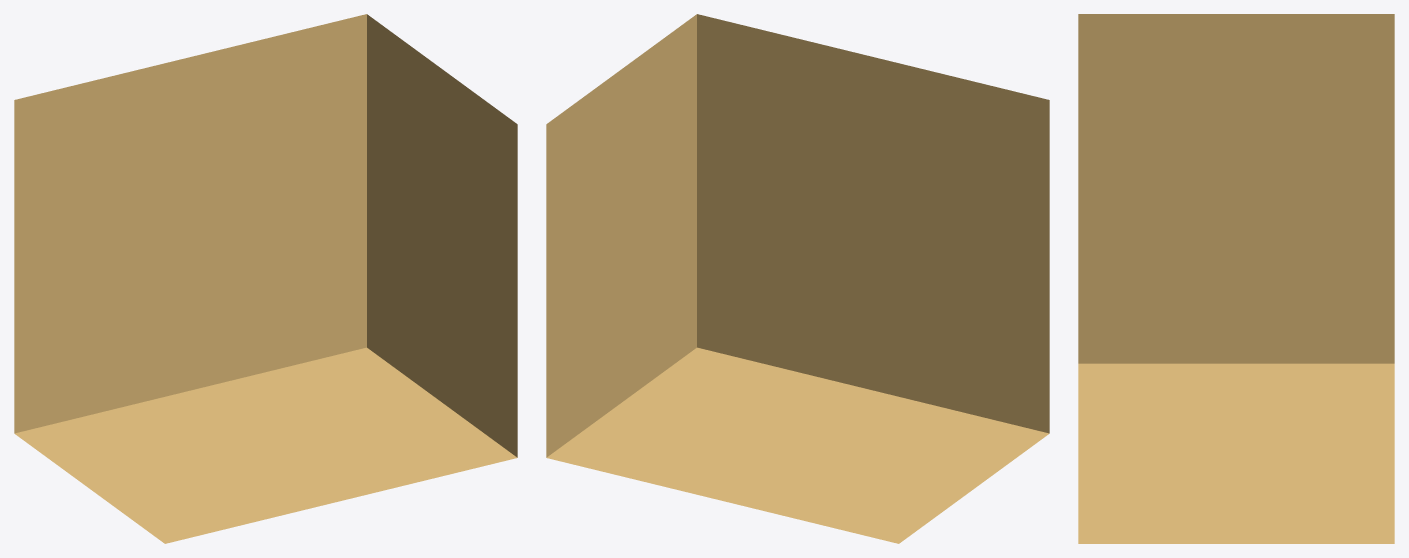
The model's file is drone-planning-cyber-neon-022.glb.
The picture shows the model from 3 angles, left to right: view 1: azimuth 30°, elevation 25°; view 2: azimuth 150°, elevation 25°; view 3: azimuth 270°, elevation 25°; orthographic projection. The views are drawn at different scales.
Visible parts, largest first — view 1: Cyber Neon Drone Planning; view 2: Cyber Neon Drone Planning; view 3: Cyber Neon Drone Planning.
Part boxes in pixels (left/top/right/bottom): Cyber Neon Drone Planning: left=14, top=14, right=517, bottom=543; Cyber Neon Drone Planning: left=546, top=14, right=1049, bottom=543; Cyber Neon Drone Planning: left=1078, top=14, right=1394, bottom=543.
Size of the model in its own units: 1.35 by 1.22 by 1.
